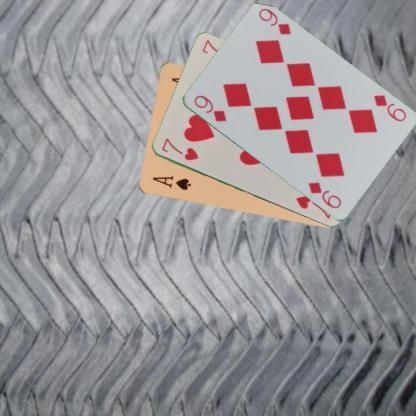7h: (158, 136, 200, 162)
9d: (370, 92, 407, 123), (190, 93, 228, 123)
As: (149, 173, 192, 192)
